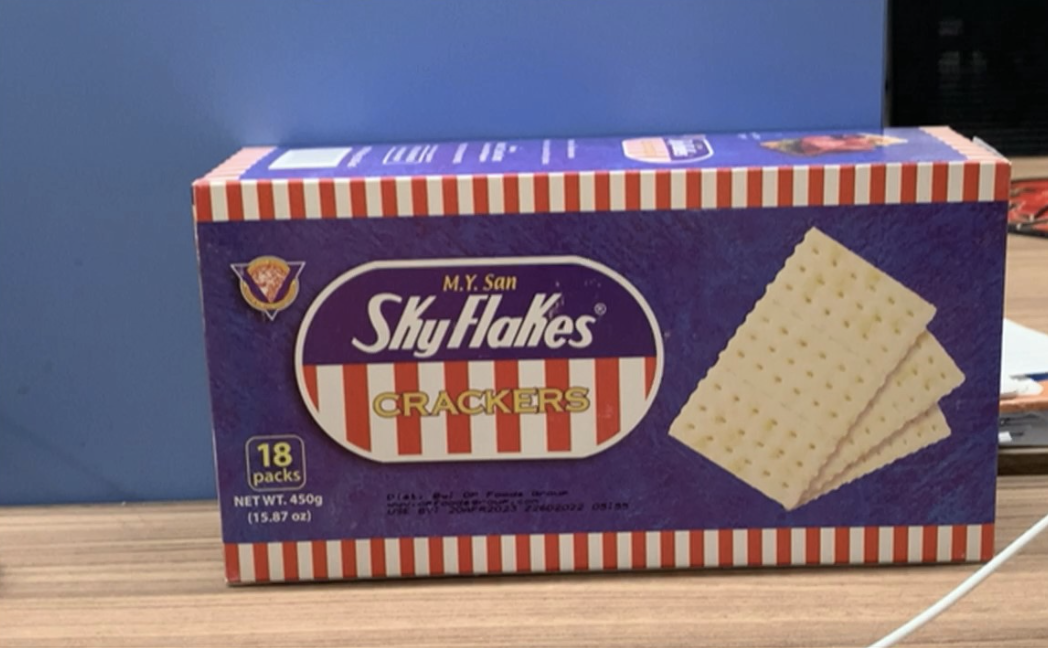crackers_450g: (225, 196, 989, 552)
